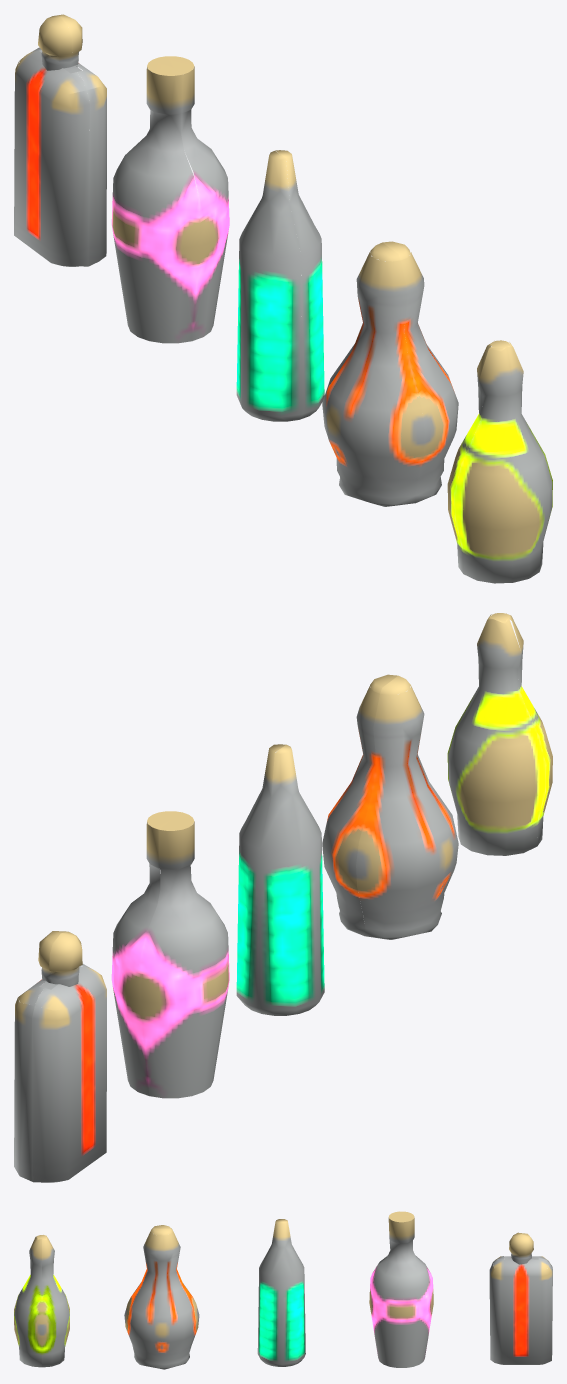
The model's file is bar_bottles_1_a.glb.
3 renders of one model, top to bottom at view 1: azimuth 30°, elevation 25°; view 2: azimuth 150°, elevation 25°; view 3: azimuth 270°, elevation 25°, orthographic. The views are drawn at different scales.
Visible parts, largest first — view 1: bar_bottles_1; view 2: bar_bottles_1; view 3: bar_bottles_1.
Part boxes in pixels (<box>): bar_bottles_1: <box>14,14,552,583</box>; bar_bottles_1: <box>14,613,552,1182</box>; bar_bottles_1: <box>14,1211,552,1369</box>.
Size of the model in its own units: 0.1493 by 0.3147 by 1.08.
Materials: 1 (1 with a texture image).
